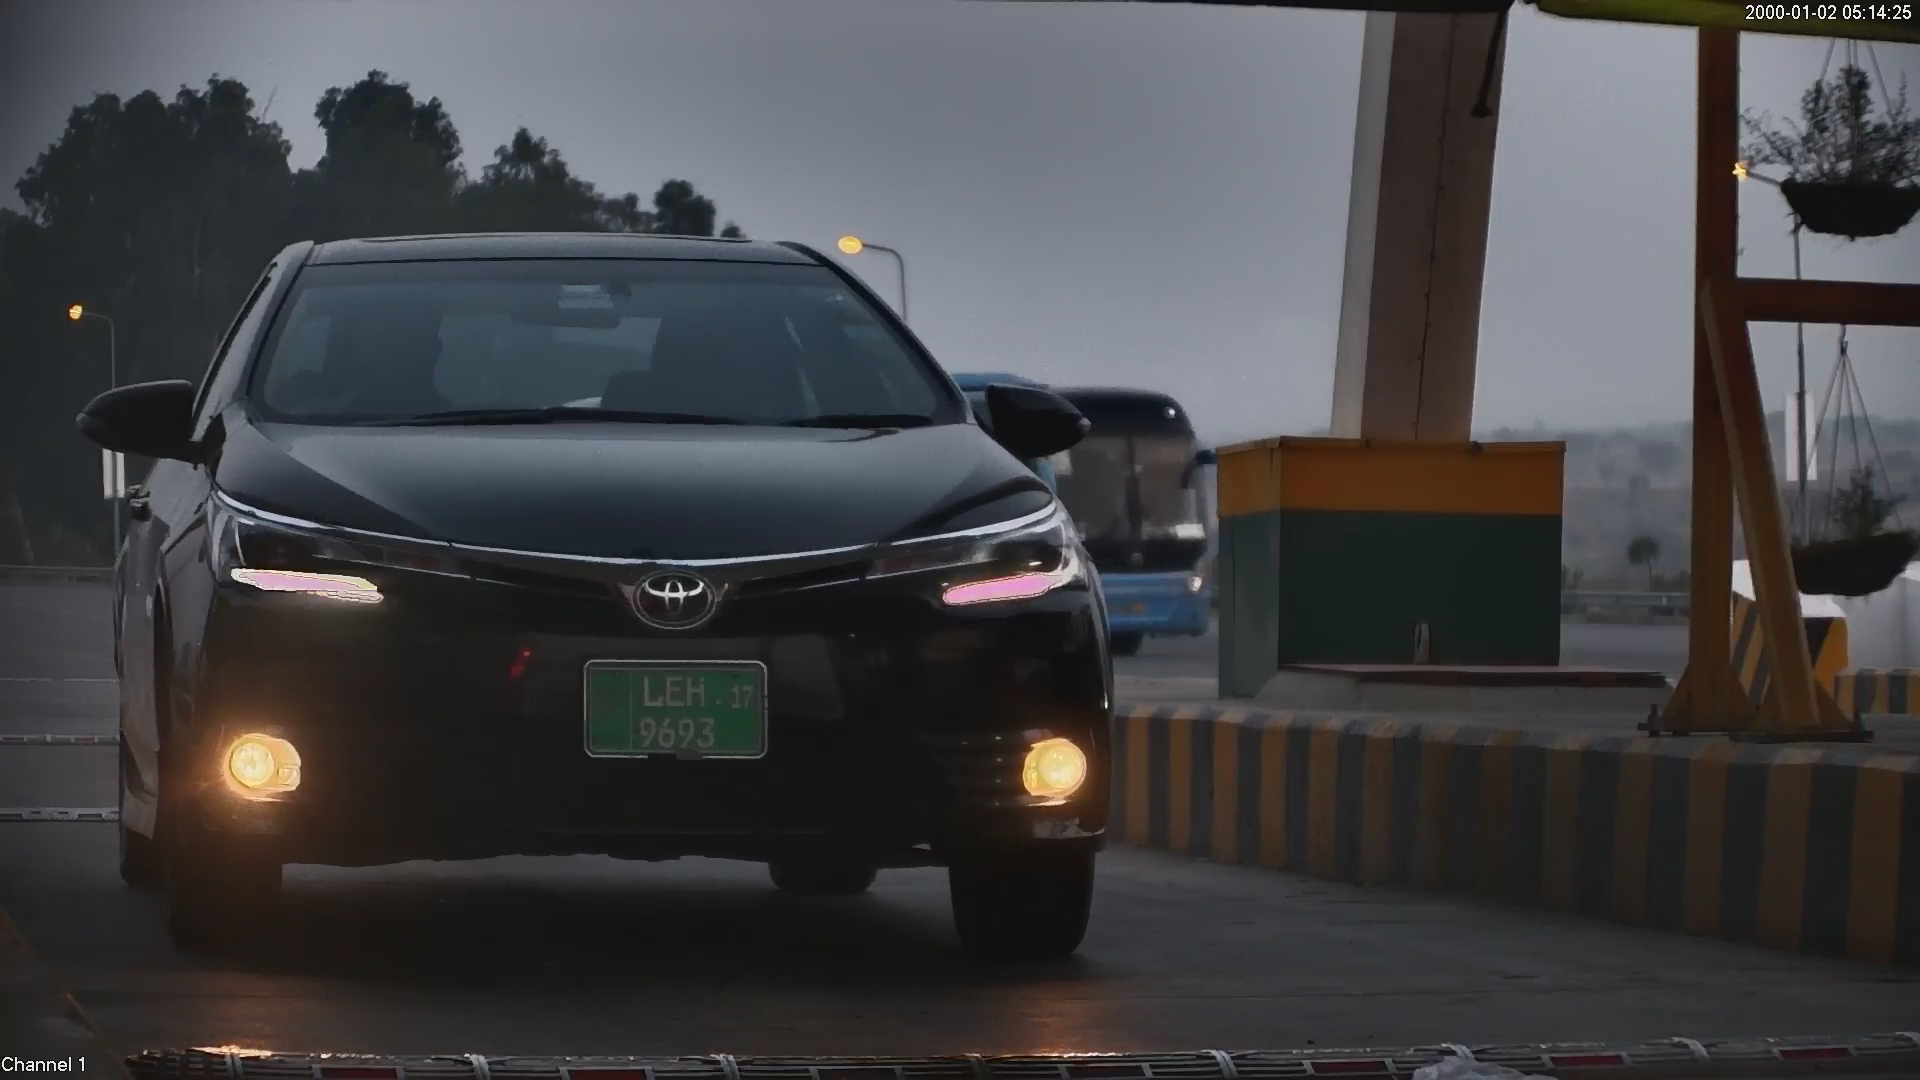Number_Plate: (573, 644, 780, 772)
